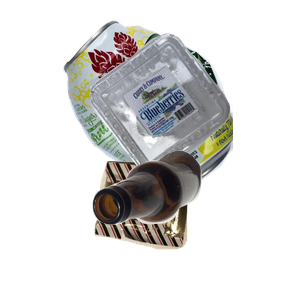glass: (90, 148, 300, 300)
metal: (60, 18, 300, 198)
plastic: (88, 31, 300, 198)
trash: (92, 158, 277, 300)
